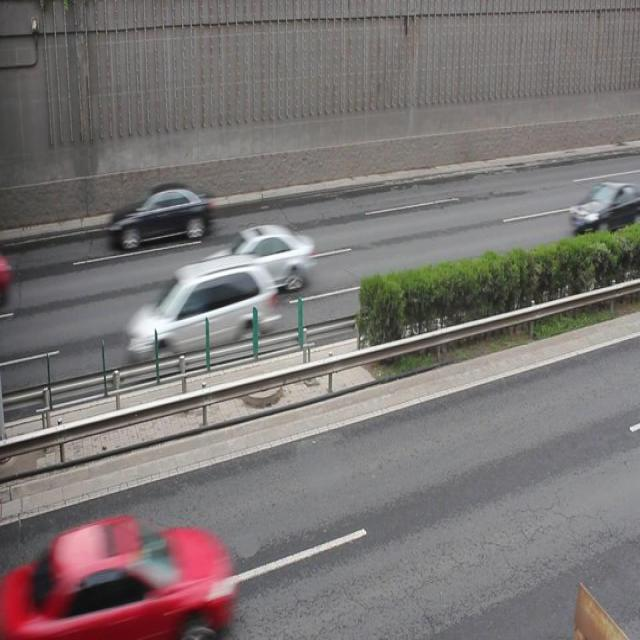car: (28, 516, 230, 640), (126, 254, 279, 364), (203, 223, 310, 291), (109, 181, 211, 250), (568, 179, 640, 233)
